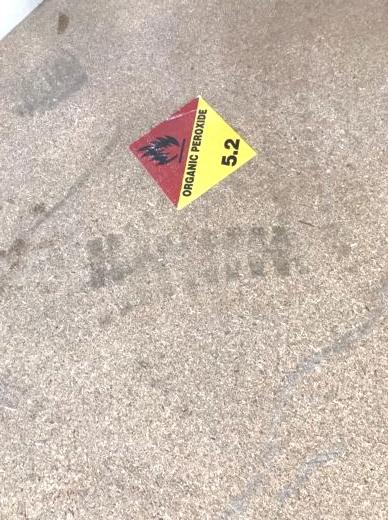organic-peroxide: (124, 94, 259, 211)
